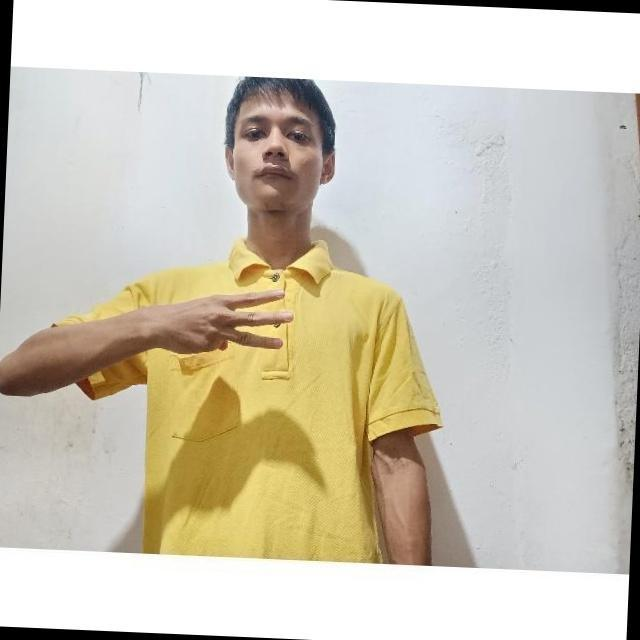E: (144, 277, 297, 368)
